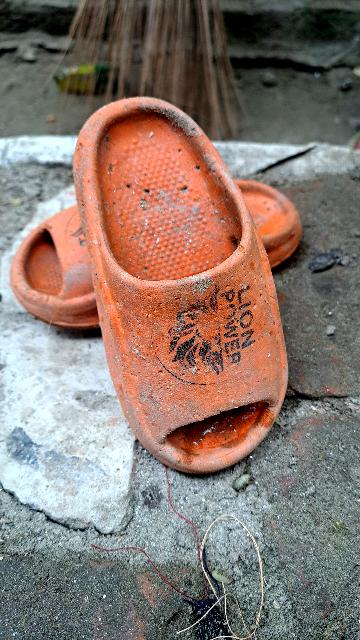sandal: (60, 57, 309, 484), (4, 152, 316, 342)
